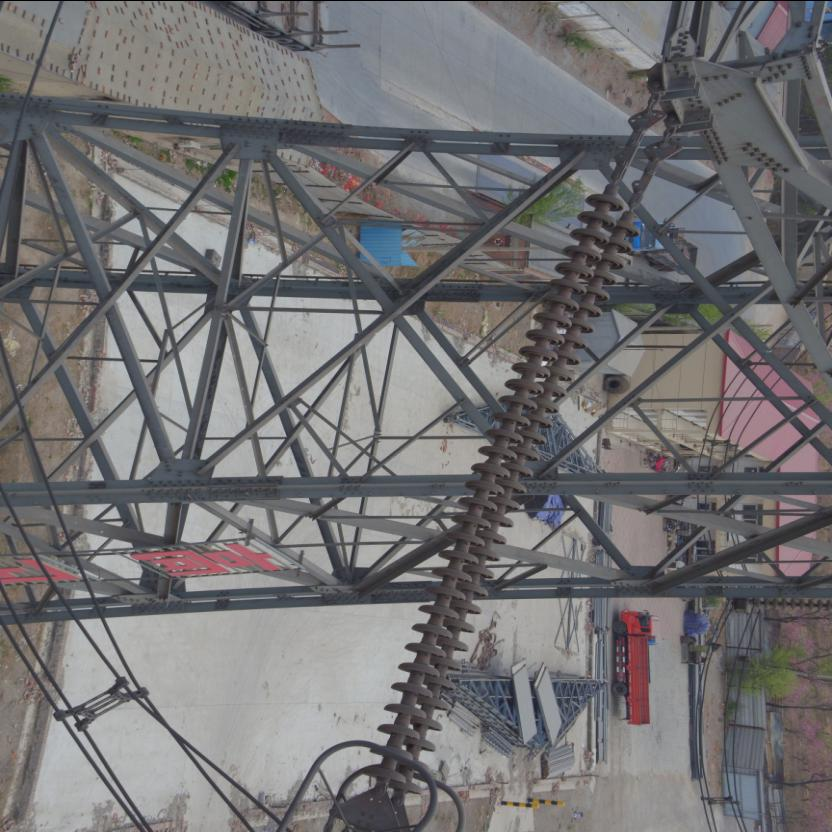insulator: (358, 146, 649, 812)
